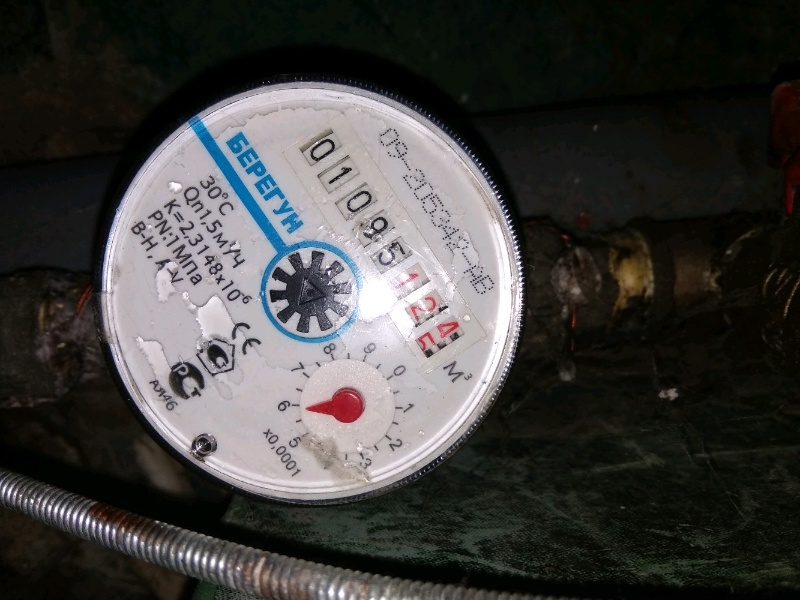meter: (326, 113, 417, 350)
